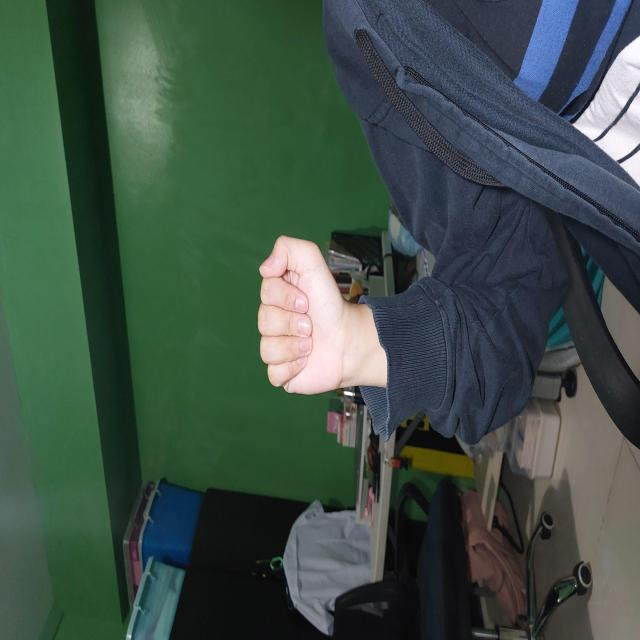A: (245, 257, 405, 349)
